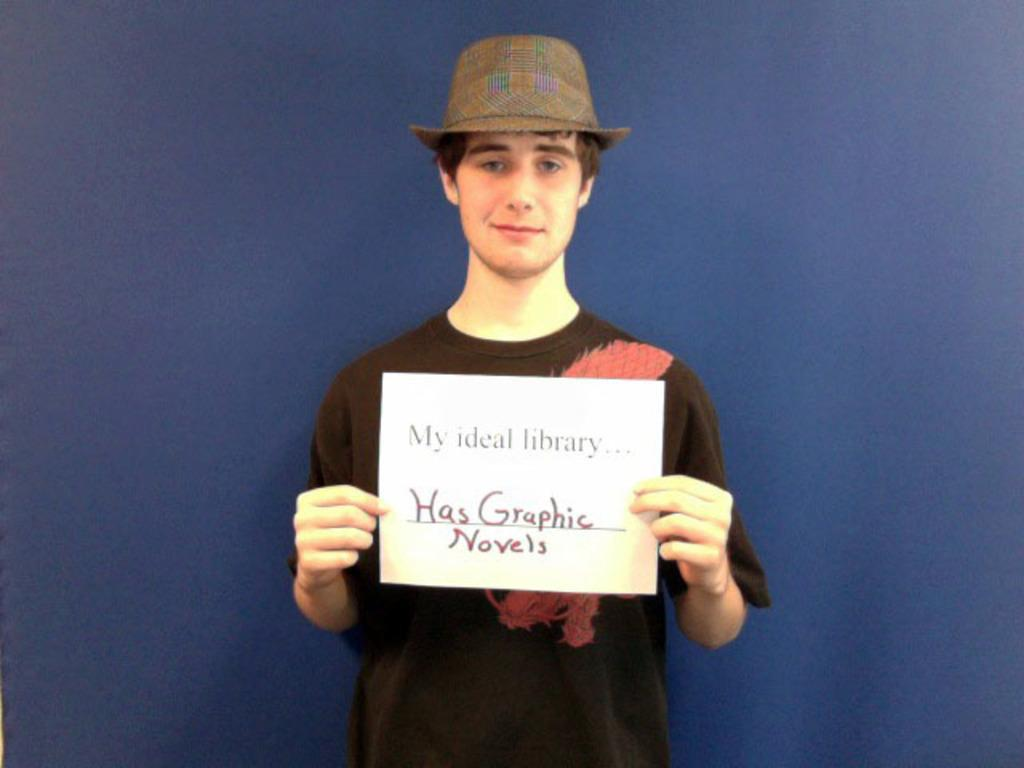Hat: (410, 33, 632, 152)
